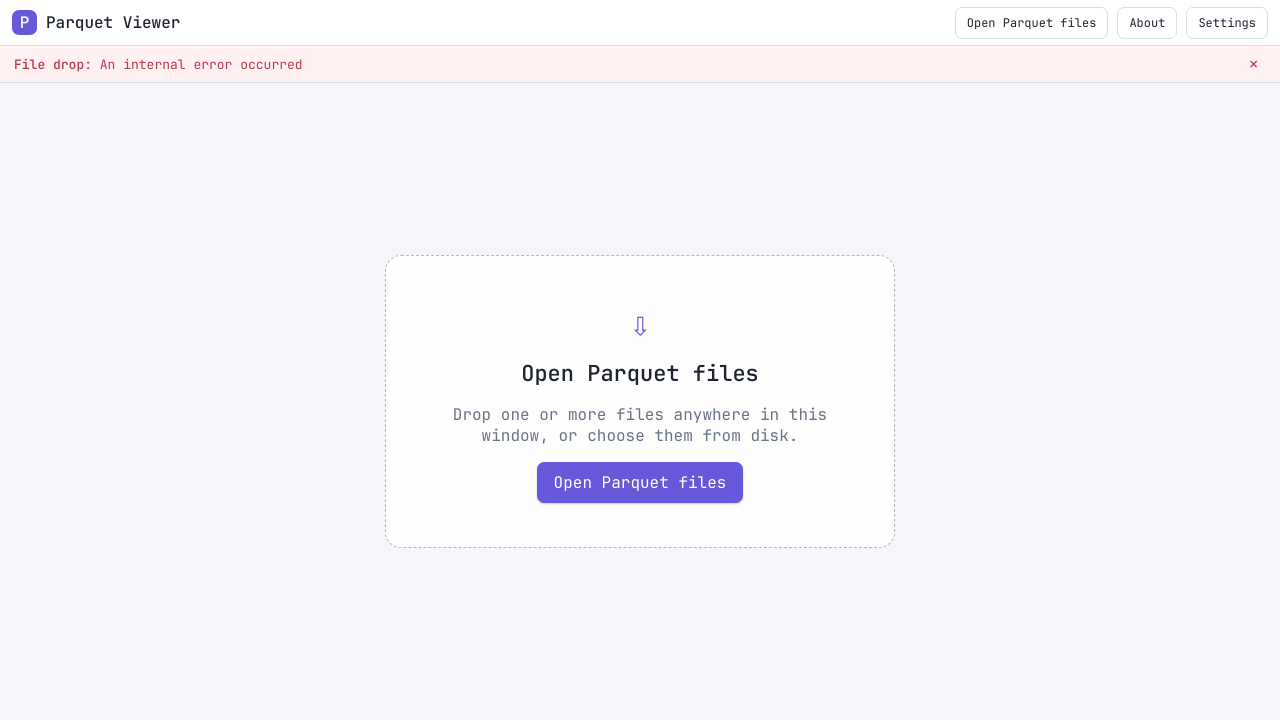
Test: surfaces rejected drop registration and picker without unhandled promises
The image size is (1280, 720).
Expected: the message shows "File drop", [14,56,84,72]
Click the button "Open Parquet files" in the row of "Parquet Viewer" at (1032, 22), box [955,6,1108,38]
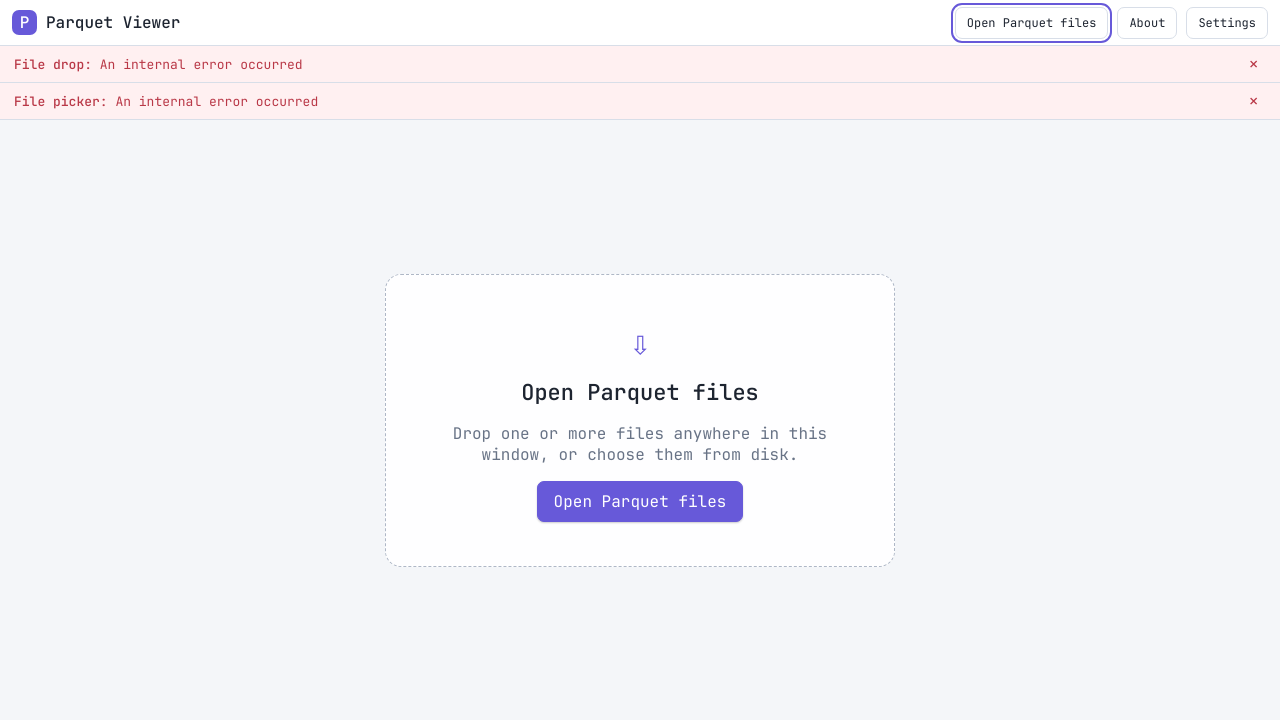
Result: the text "File picker" is shown at [14,92,100,110]
